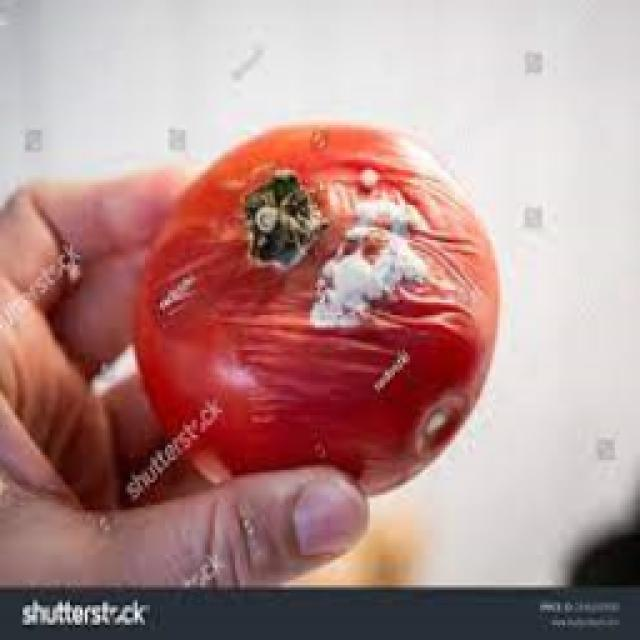overripe tomato: (125, 100, 512, 490)
